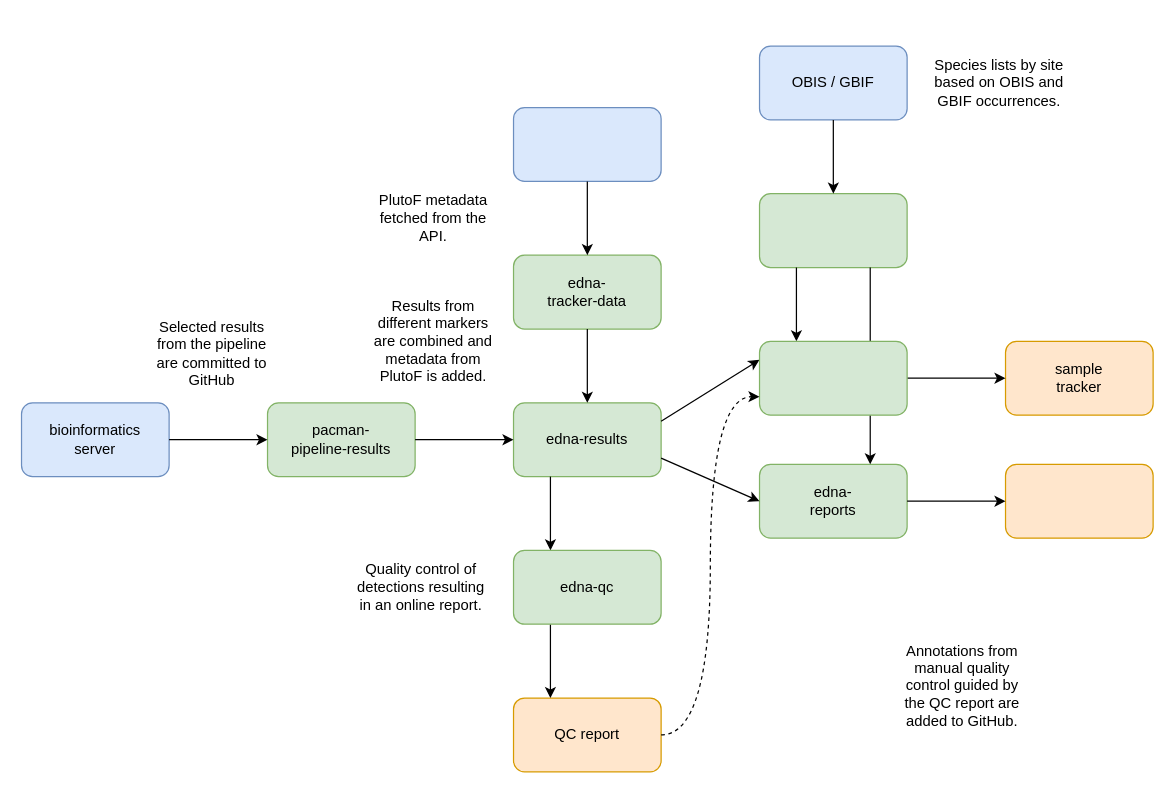
Some shapes in this 1175 by 793 pixel diagram are drawn without their labels. The centre of each missing label's shape, as x and y in pixels:
edna- species-lists: the point at 832,377
mwhs- obis-species: the point at 832,230
PDF report: the point at 1078,500
PlutoF: the point at 586,143
